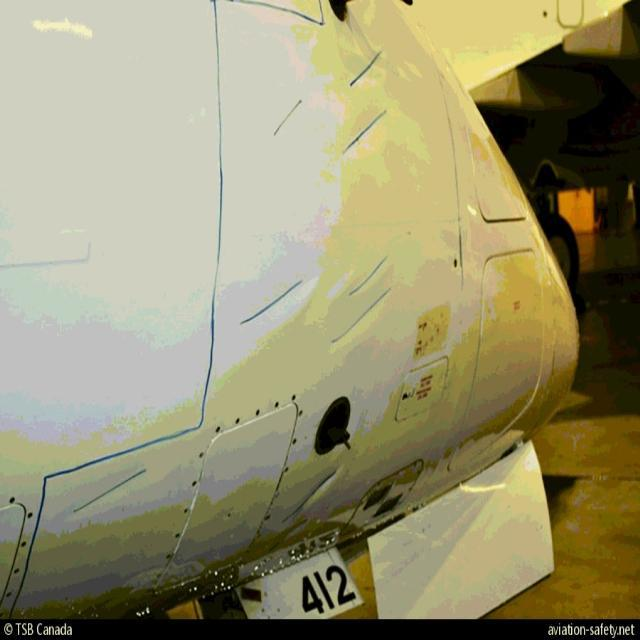dent: (339, 111, 385, 165)
